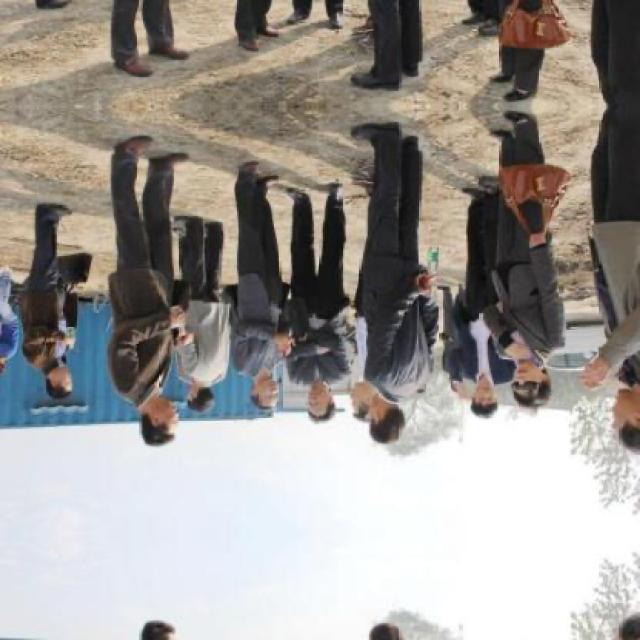sin casco: (113, 342, 199, 472), (492, 325, 584, 433), (230, 358, 316, 441), (357, 358, 412, 478), (613, 370, 640, 464)
